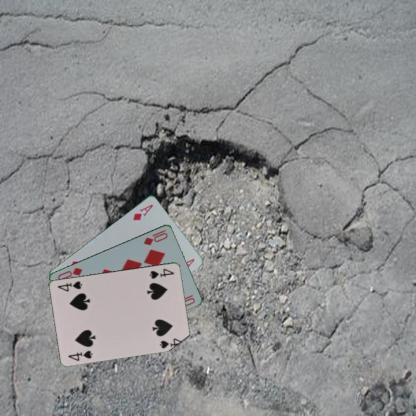10d: (141, 227, 169, 246)
4s: (146, 265, 176, 280), (66, 348, 93, 362)
Ad: (131, 201, 154, 221)
